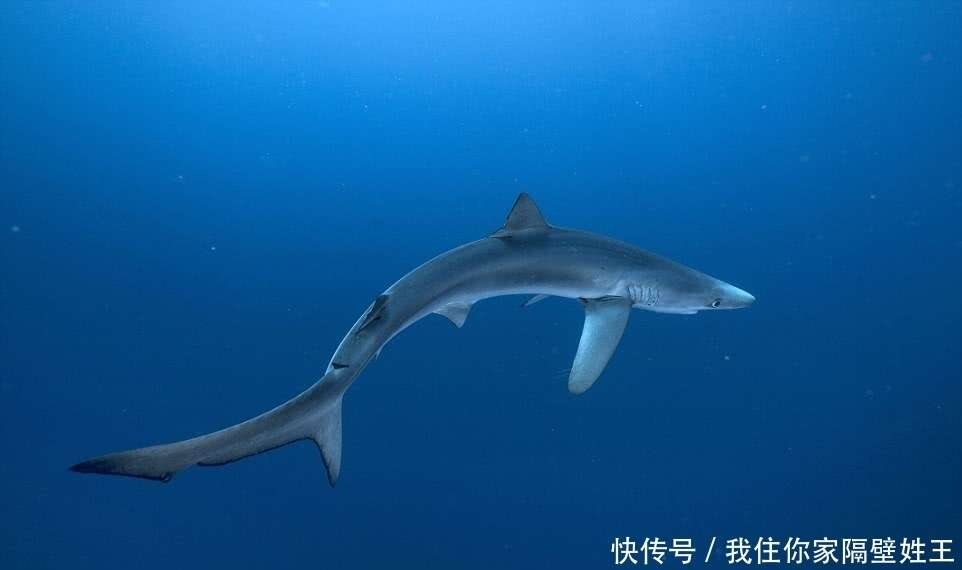shark: (69, 180, 785, 502)
